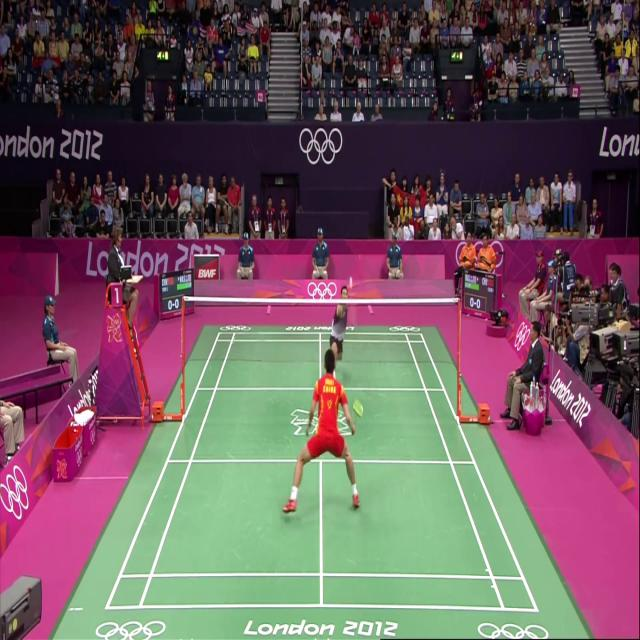Net: (180, 294, 461, 369)
Player1: (274, 348, 364, 542)
Player2: (323, 285, 358, 377)
Shuttlecock: (346, 272, 357, 290)
